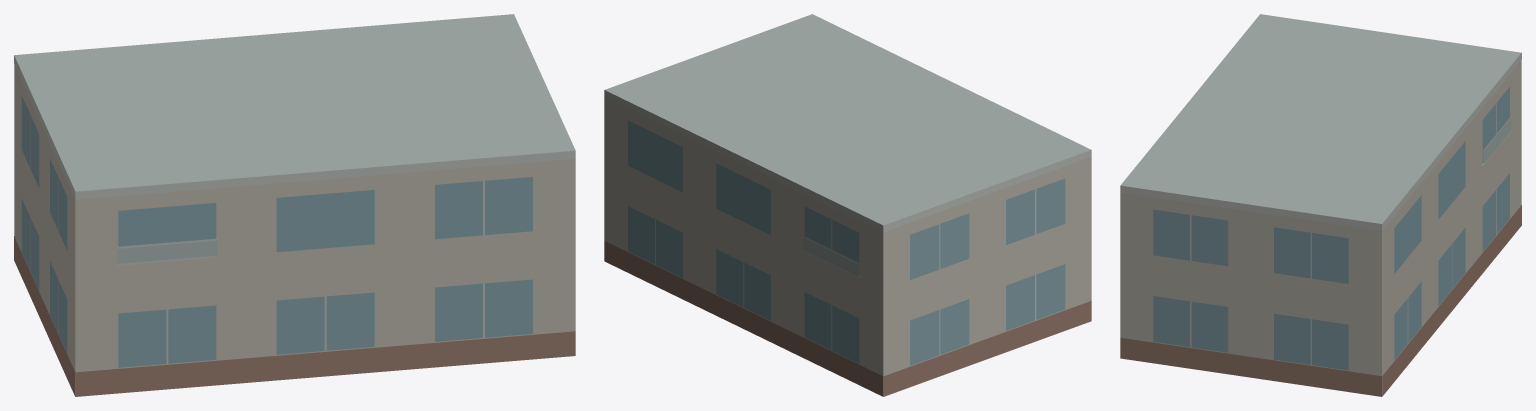
The model's file is survey-upis-32526648.glb.
The picture shows the model from 3 angles, left to right: view 1: azimuth 30°, elevation 25°; view 2: azimuth 150°, elevation 25°; view 3: azimuth 270°, elevation 25°; orthographic projection. The views are drawn at different scales.
Parts seen in each view (by area): view 1: survey-upis-32526648.tmp; view 2: survey-upis-32526648.tmp; view 3: survey-upis-32526648.tmp.
Boxes of the visible parts, x1,y1,x2,y2 form: survey-upis-32526648.tmp: [14, 14, 575, 396]; survey-upis-32526648.tmp: [604, 14, 1091, 396]; survey-upis-32526648.tmp: [1120, 14, 1521, 396].
Size of the model in its own units: 15.9 by 6.1 by 12.85.
